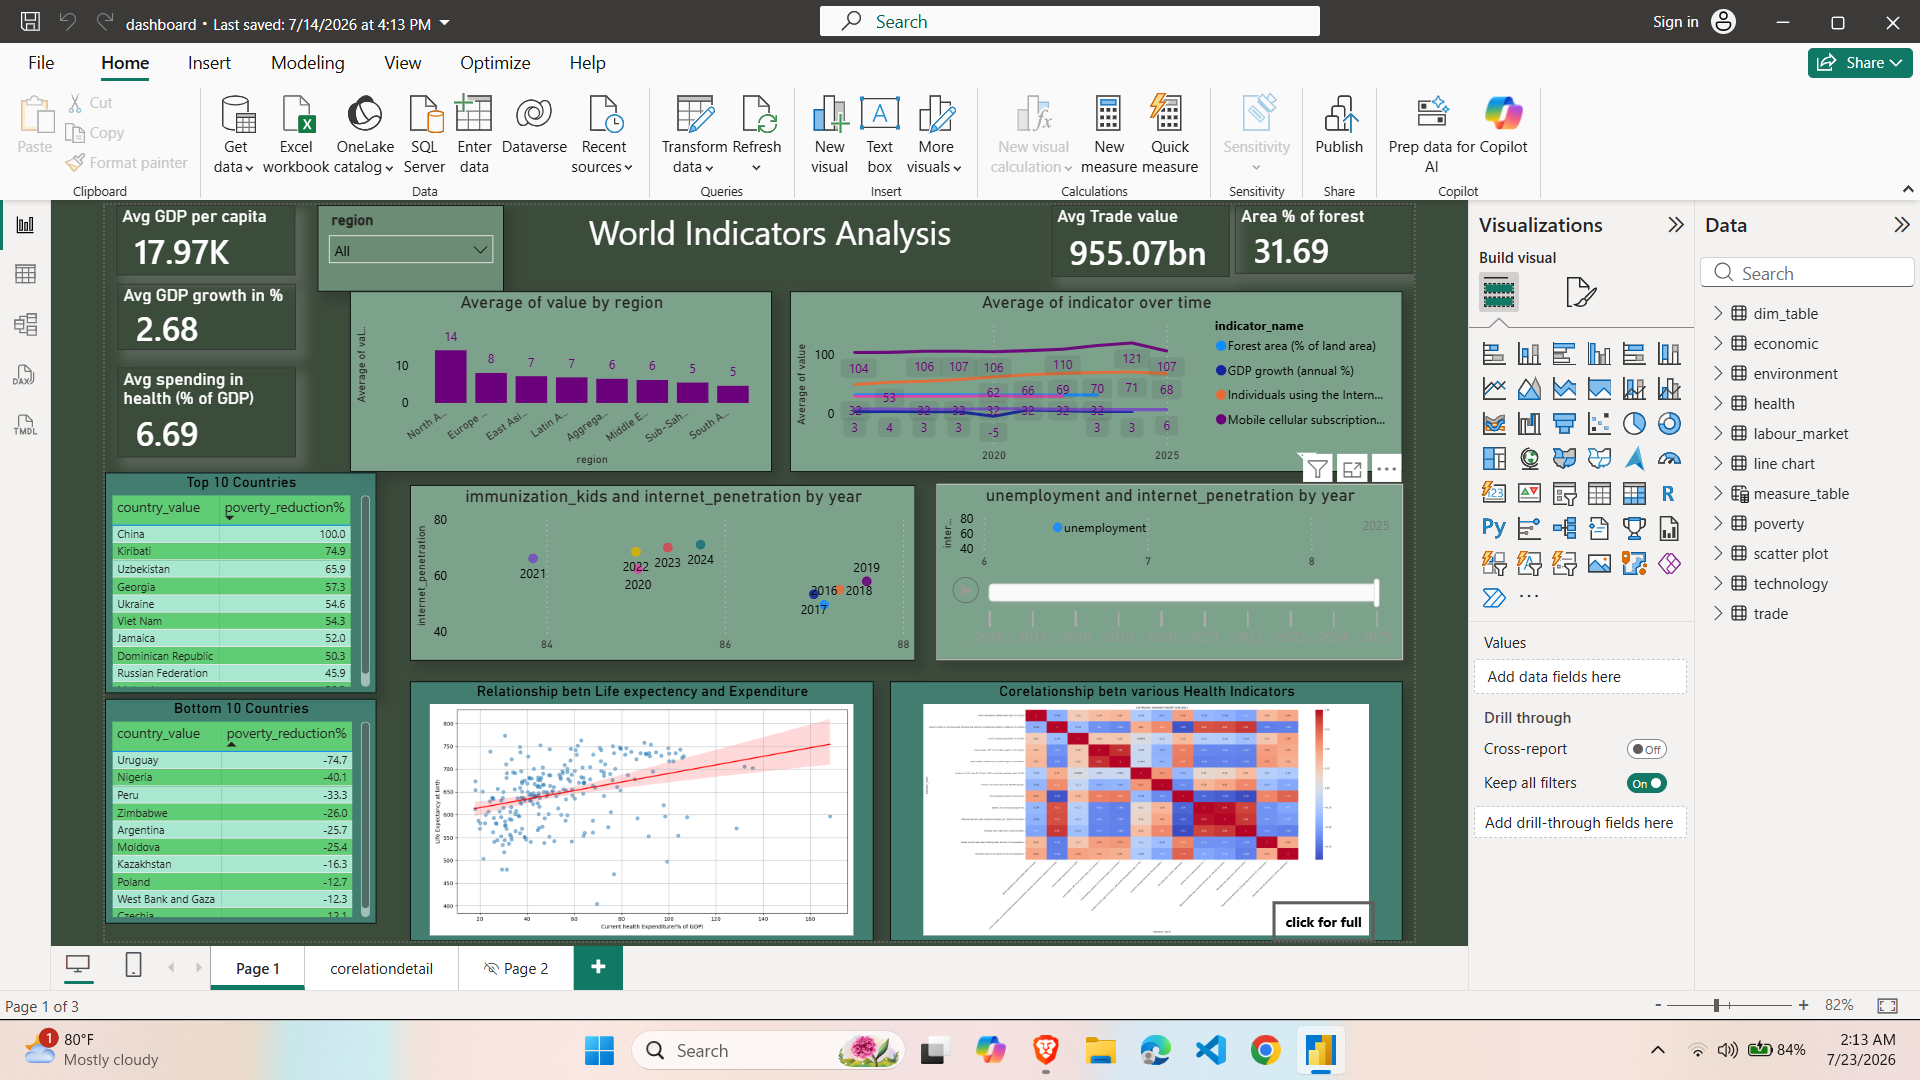

The dashboard page shown, as its layout file describes it:
{"tool":"powerbi","page":{"name":"Page 1","canvas":[1280,720],"ordinal":0},"visuals":[{"type":"textbox","box":[468.2,0,369.4,58.8],"z":0},{"type":"cardVisual","title":"Avg GDP per capita","fields":{"Data":["Avg(economic.value)"]},"box":[11.2,0,175,68.8],"z":1000},{"type":"cardVisual","title":"Avg Trade value","fields":{"Data":["Avg(trade.value)"]},"box":[925.9,0,174.1,70.6],"z":2000},{"type":"cardVisual","title":"Avg spending in health (% of  GDP)","fields":{"Data":["Avg(health.value)"]},"box":[11.8,158.8,174.1,88.2],"z":3000},{"type":"cardVisual","title":"Avg GDP growth  in %","fields":{"Data":["Avg(economic.value)"]},"box":[11.8,77.6,174.1,64.7],"z":4000},{"type":"cardVisual","title":"Area % of forest","fields":{"Data":["Avg(environment.value)"]},"box":[1105.9,0,174.1,67.1],"z":5000},{"type":"slicer","fields":{"Values":["health.region"]},"box":[207.5,0,182.5,85],"z":6000},{"type":"columnChart","fields":{"Category":["health.region"],"Y":["Avg(health.value)"]},"box":[240,84.7,412.9,176.5],"z":7000},{"type":"lineChart","title":"Average of indicator over time","fields":{"Category":["line chart.year"],"Y":["Avg(line chart.value)"],"Series":["line chart.indicator_name"]},"box":[670.6,84.7,598.8,176.5],"z":8000},{"type":"scatterChart","fields":{"X":["measure_table.immunization_kids"],"Y":["measure_table.internet_penetration"],"Category":["scatter plot.year"]},"box":[298.7,273.3,494.7,172],"z":9000},{"type":"scatterChart","fields":{"X":["measure_table.unemployment"],"Y":["measure_table.internet_penetration"],"Play":["scatter plot.year"]},"box":[812.8,273.1,456.4,171.8],"z":10000},{"type":"tableEx","title":"Top 10 Countries","fields":{"Values":["poverty.country_value","measure_table.poverty_reduction%"]},"box":[0,261.3,265.3,216],"z":11000},{"type":"tableEx","title":"Bottom 10 Countries","fields":{"Values":["poverty.country_value","measure_table.poverty_reduction%"]},"box":[0,482.7,265.3,220],"z":12000},{"type":"pythonVisual","title":"Corelationship betn various Health Indicators","fields":{"Values":["health.country_value","health.indicator_name","Sum(health.year)","Sum(health.value)"]},"box":[768,465.3,501.3,254.7],"z":12001},{"type":"pythonVisual","title":"Relationship betn Life expectency and  Expenditure","fields":{"Values":["health.country_value","health.indicator_name","Sum(health.value)","Sum(health.year)"]},"box":[298.7,465.3,453.3,254.7],"z":12002},{"type":"actionButton","box":[1142.3,680.8,100,39.7],"z":12003}]}

Visuals, with their boxes on the page's 1280x720 design canvas (x1, y1, x2, y2). These are canvas units, not pixel positions in the 1920x1080 screenshot, which may show the page scaled, cropped or inside an application window:
textbox: 468:0:838:59
"Avg GDP per capita" cardVisual: 11:0:186:69
"Avg Trade value" cardVisual: 926:0:1100:71
"Avg spending in health (% of  GDP)" cardVisual: 12:159:186:247
"Avg GDP growth  in %" cardVisual: 12:78:186:142
"Area % of forest" cardVisual: 1106:0:1280:67
slicer - health.region: 208:0:390:85
columnChart - health.region x Avg(health.value): 240:85:653:261
"Average of indicator over time" lineChart: 671:85:1269:261
scatterChart - measure_table.immunization_kids x measure_table.internet_penetration: 299:273:793:445
scatterChart - measure_table.unemployment x measure_table.internet_penetration: 813:273:1269:445
"Top 10 Countries" tableEx: 0:261:265:477
"Bottom 10 Countries" tableEx: 0:483:265:703
"Corelationship betn various Health Indicators" pythonVisual: 768:465:1269:720
"Relationship betn Life expectency and  Expenditure" pythonVisual: 299:465:752:720
actionButton: 1142:681:1242:720
